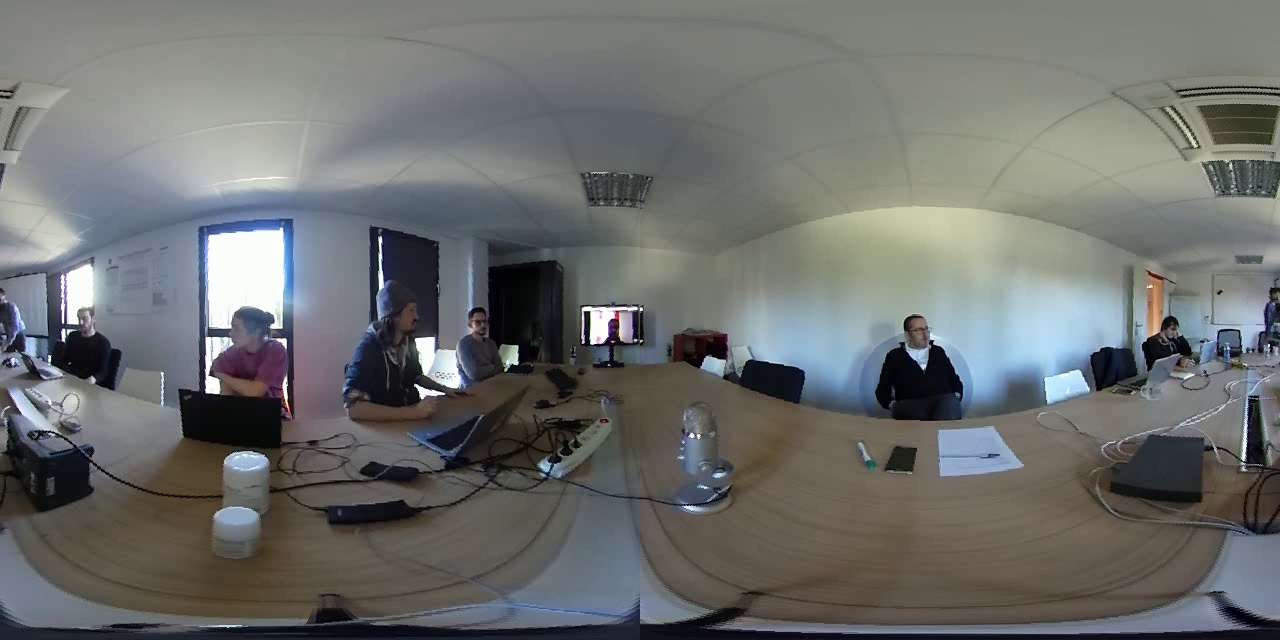person: (337, 273, 435, 410), (873, 307, 966, 410), (207, 295, 296, 401), (54, 297, 125, 385), (455, 303, 507, 376), (1134, 312, 1198, 362), (582, 304, 641, 344), (1, 286, 28, 351), (1255, 280, 1280, 339)
